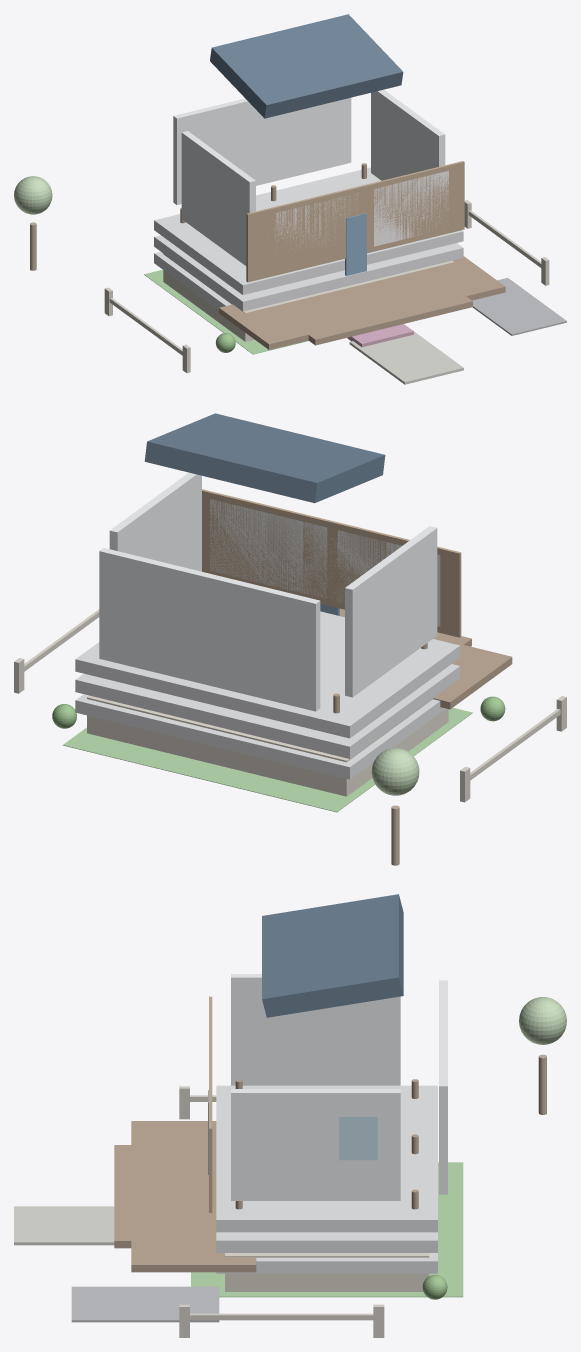
The model's file is BUILDING_HOUSE_BEACH_BUNGALOW_001_LOD_MAP.glb.
The picture shows the model from 3 angles, top to bottom: view 1: azimuth 30°, elevation 25°; view 2: azimuth 150°, elevation 25°; view 3: azimuth 270°, elevation 25°; orthographic projection. The views are drawn at different scales.
Parts seen in each view (by area): view 1: MOD_WINDOW_RESIDENTIAL_LARGE_001_COASTAL_PANORAMIC_WINDOW_MA (×2), MOD_ROOF_GABLE_STANDARD_001.002, MOD_WALL_WEATHERBOARD_WHITE_001.008, MOD_DECK_TIMBER_COASTAL_001_WRAP_DECK_MAP_PLATFORM, MOD_FOUNDATION_RAISED_COASTAL_001_COASTAL_STILT_FOUNDATION_M, MOD_WALL_WEATHERBOARD_WHITE_001.006, MOD_DECK_TIMBER_COASTAL_001_MEDIUM_DECK_MAP_PLATFORM, MOD_FOUNDATION_RAISED_COASTAL_001_MEDIUM_RAISED_COASTAL_MAP_, MOD_WALL_WEATHERBOARD_WHITE_001.007, MOD_PATH_STANDARD_001_MAP_SURFACE, MOD_DRIVEWAY_STANDARD_SINGLE_001_MAP_SURFACE, MOD_WINDOW_RESIDENTIAL_LARGE_001_DOUBLE_PANEL_WINDOW_MAP_FRA (+10 smaller); view 2: MOD_WALL_WEATHERBOARD_WHITE_001.008, MOD_WINDOW_RESIDENTIAL_LARGE_001_COASTAL_PANORAMIC_WINDOW_MA (×2), MOD_ROOF_GABLE_STANDARD_001.002, MOD_FOUNDATION_RAISED_COASTAL_001_COASTAL_STILT_FOUNDATION_M, MOD_WALL_WEATHERBOARD_WHITE_001.006, MOD_WINDOW_RESIDENTIAL_LARGE_001_DOUBLE_PANEL_WINDOW_MAP_FRA (×2), MOD_FOUNDATION_RAISED_COASTAL_001_MEDIUM_RAISED_COASTAL_MAP_, MOD_FOUNDATION_RAISED_COASTAL_001_LOW_RAISED_COASTAL_MAP_SKI, MOD_FOUNDATION_RAISED_COASTAL_001_LOW_RAISED_COASTAL_MAP_PLA, MOD_GROUND_GRASS_STANDARD_001_MAP_PATCH, MOD_WALL_WEATHERBOARD_WHITE_001.007, MOD_WINDOW_RESIDENTIAL_LARGE_001_LARGE_SINGLE_WINDOW_MAP_FRA (×2) (+4 smaller); view 3: MOD_WALL_WEATHERBOARD_WHITE_001.007, MOD_ROOF_GABLE_STANDARD_001.002, MOD_WALL_WEATHERBOARD_WHITE_001.006, MOD_FOUNDATION_RAISED_COASTAL_001_COASTAL_STILT_FOUNDATION_M, MOD_DECK_TIMBER_COASTAL_001_WRAP_DECK_MAP_PLATFORM, MOD_DECK_TIMBER_COASTAL_001_MEDIUM_DECK_MAP_PLATFORM, MOD_DRIVEWAY_STANDARD_SINGLE_001_MAP_SURFACE, MOD_GROUND_GRASS_STANDARD_001_MAP_PATCH, MOD_FOUNDATION_RAISED_COASTAL_001_LOW_RAISED_COASTAL_MAP_SKI, MOD_FOUNDATION_RAISED_COASTAL_001_MEDIUM_RAISED_COASTAL_MAP_, MOD_DECK_TIMBER_COASTAL_001_SMALL_DECK_MAP_PLATFORM, MOD_PATH_STANDARD_001_MAP_SURFACE (+6 smaller).
Part boxes in pixels (<box>): MOD_WINDOW_RESIDENTIAL_LARGE_001_COASTAL_PANORAMIC_WINDOW_MA (×2): <box>246,161,464,282</box>; MOD_ROOF_GABLE_STANDARD_001.002: <box>210,14,403,118</box>; MOD_WALL_WEATHERBOARD_WHITE_001.008: <box>173,97,351,204</box>; MOD_DECK_TIMBER_COASTAL_001_WRAP_DECK_MAP_PLATFORM: <box>219,256,505,349</box>; MOD_FOUNDATION_RAISED_COASTAL_001_COASTAL_STILT_FOUNDATION_M: <box>154,167,463,294</box>; MOD_WALL_WEATHERBOARD_WHITE_001.006: <box>181,131,255,265</box>; MOD_DECK_TIMBER_COASTAL_001_MEDIUM_DECK_MAP_PLATFORM: <box>271,272,472,345</box>; MOD_FOUNDATION_RAISED_COASTAL_001_MEDIUM_RAISED_COASTAL_MAP_: <box>154,235,463,311</box>; MOD_WALL_WEATHERBOARD_WHITE_001.007: <box>371,89,445,180</box>; MOD_PATH_STANDARD_001_MAP_SURFACE: <box>349,329,463,384</box>; MOD_DRIVEWAY_STANDARD_SINGLE_001_MAP_SURFACE: <box>472,277,566,335</box>; MOD_WINDOW_RESIDENTIAL_LARGE_001_DOUBLE_PANEL_WINDOW_MAP_FRA: <box>374,170,448,232</box>; MOD_WALL_WEATHERBOARD_WHITE_001.008: <box>99,548,320,711</box>; MOD_WINDOW_RESIDENTIAL_LARGE_001_COASTAL_PANORAMIC_WINDOW_MA (×2): <box>202,489,461,637</box>; MOD_ROOF_GABLE_STANDARD_001.002: <box>144,413,385,503</box>; MOD_FOUNDATION_RAISED_COASTAL_001_COASTAL_STILT_FOUNDATION_M: <box>75,611,460,738</box>; MOD_WALL_WEATHERBOARD_WHITE_001.006: <box>345,526,437,697</box>; MOD_WINDOW_RESIDENTIAL_LARGE_001_DOUBLE_PANEL_WINDOW_MAP_FRA (×2): <box>210,499,440,626</box>; MOD_FOUNDATION_RAISED_COASTAL_001_MEDIUM_RAISED_COASTAL_MAP_: <box>75,664,460,758</box>; MOD_FOUNDATION_RAISED_COASTAL_001_LOW_RAISED_COASTAL_MAP_SKI: <box>87,695,448,796</box>; MOD_FOUNDATION_RAISED_COASTAL_001_LOW_RAISED_COASTAL_MAP_PLA: <box>75,694,446,779</box>; MOD_GROUND_GRASS_STANDARD_001_MAP_PATCH: <box>62,707,472,812</box>; MOD_WALL_WEATHERBOARD_WHITE_001.007: <box>109,472,201,571</box>; MOD_WINDOW_RESIDENTIAL_LARGE_001_LARGE_SINGLE_WINDOW_MAP_FRA (×2): <box>225,503,376,601</box>; MOD_WALL_WEATHERBOARD_WHITE_001.007: <box>231,1089,400,1200</box>; MOD_ROOF_GABLE_STANDARD_001.002: <box>262,894,403,1017</box>; MOD_WALL_WEATHERBOARD_WHITE_001.006: <box>231,974,400,1085</box>; MOD_FOUNDATION_RAISED_COASTAL_001_COASTAL_STILT_FOUNDATION_M: <box>216,1085,437,1232</box>; MOD_DECK_TIMBER_COASTAL_001_WRAP_DECK_MAP_PLATFORM: <box>131,1121,256,1272</box>; MOD_DECK_TIMBER_COASTAL_001_MEDIUM_DECK_MAP_PLATFORM: <box>114,1145,216,1248</box>; MOD_DRIVEWAY_STANDARD_SINGLE_001_MAP_SURFACE: <box>71,1286,219,1322</box>; MOD_GROUND_GRASS_STANDARD_001_MAP_PATCH: <box>191,1162,463,1297</box>; MOD_FOUNDATION_RAISED_COASTAL_001_LOW_RAISED_COASTAL_MAP_SKI: <box>225,1253,429,1291</box>; MOD_FOUNDATION_RAISED_COASTAL_001_MEDIUM_RAISED_COASTAL_MAP_: <box>216,1232,437,1252</box>; MOD_DECK_TIMBER_COASTAL_001_SMALL_DECK_MAP_PLATFORM: <box>137,1164,216,1221</box>; MOD_PATH_STANDARD_001_MAP_SURFACE: <box>14,1206,114,1245</box>.
Size of the model in its own units: 9.82 by 5.72 by 9.74.
